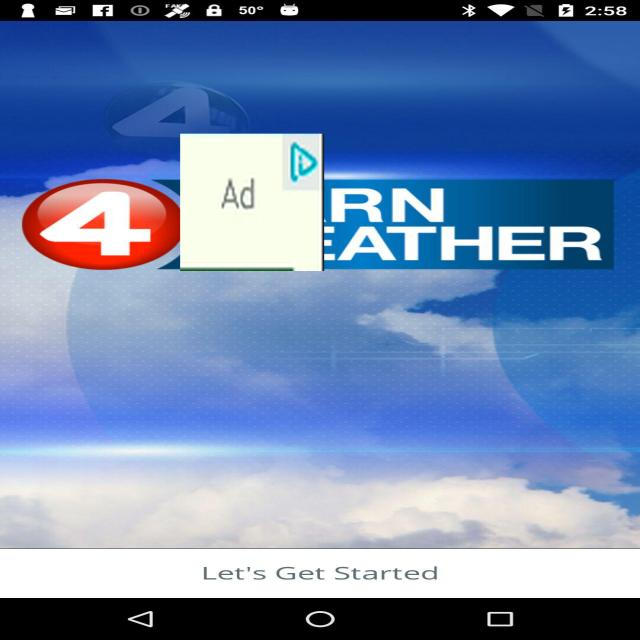sneaking: (180, 134, 324, 271)
